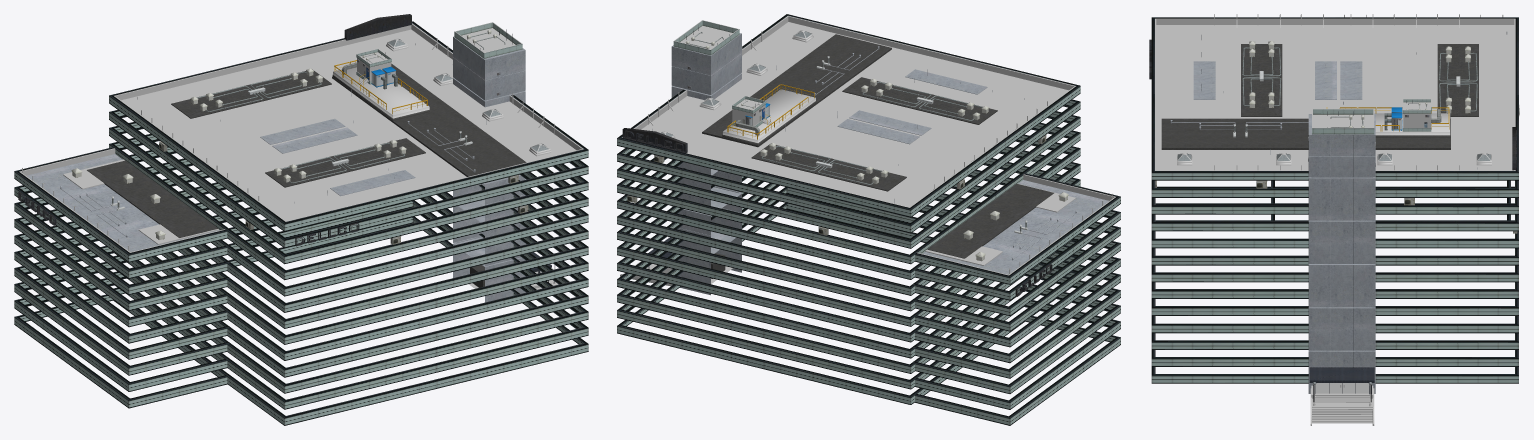
Rendered from u2SWBuild1.gltf.
3 renders of one model, left to right at view 1: azimuth 30°, elevation 25°; view 2: azimuth 150°, elevation 25°; view 3: azimuth 270°, elevation 25°, orthographic. The views are drawn at different scales.
Visible parts, largest first — view 1: u2SWBuild1; view 2: u2SWBuild1; view 3: u2SWBuild1.
Part boxes in pixels (left/top/right/bottom): u2SWBuild1: left=14, top=14, right=588, bottom=425; u2SWBuild1: left=617, top=14, right=1120, bottom=425; u2SWBuild1: left=1149, top=14, right=1519, bottom=425.
Size of the model in its own units: 36.15 by 19.32 by 23.53.
